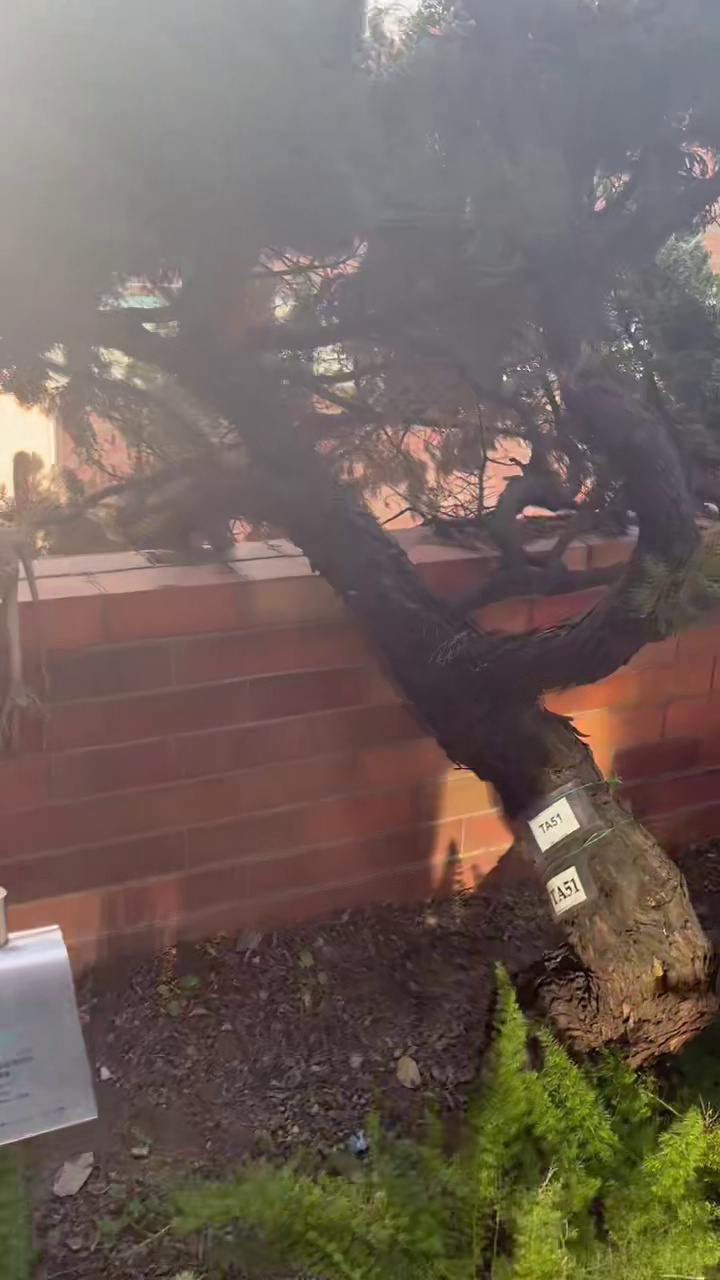Juniperus chinensis: (0, 0, 719, 1060)
